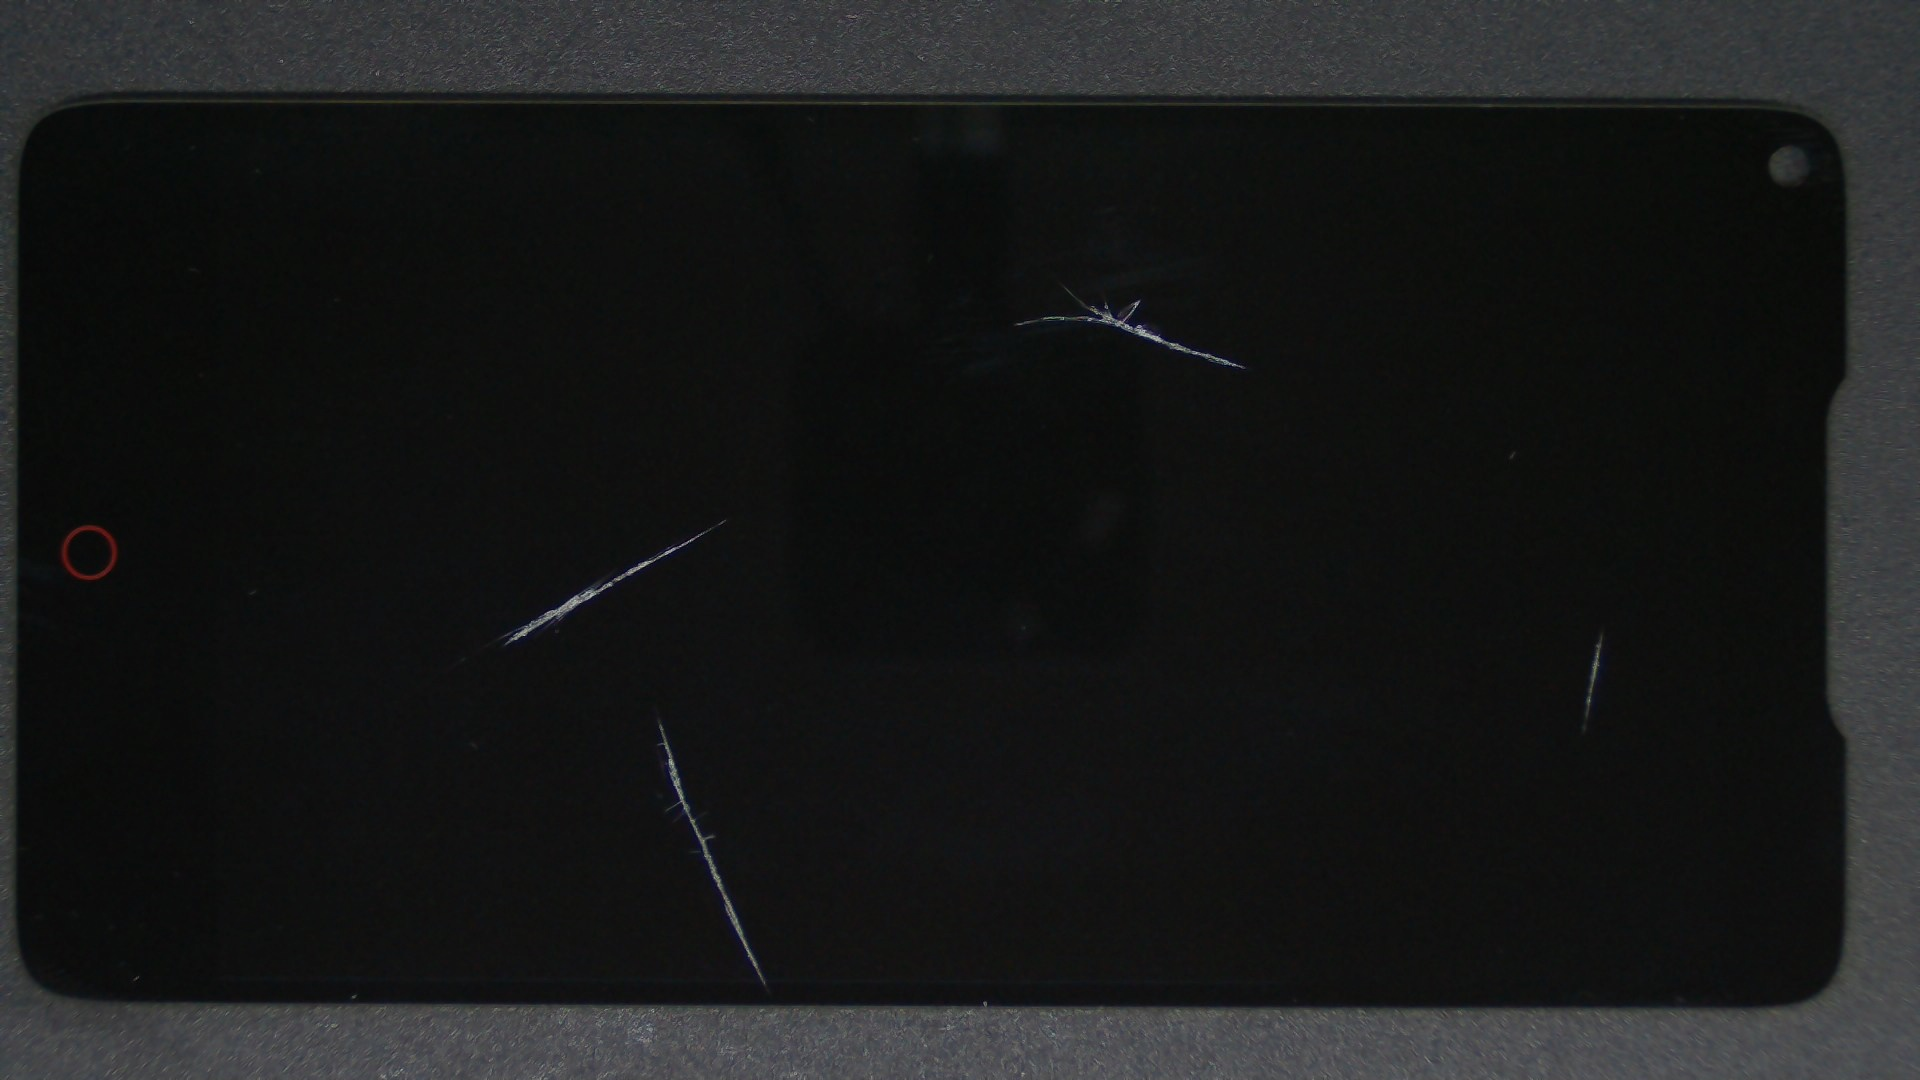oil: (800, 316, 1920, 949), (330, 360, 988, 1080), (363, 258, 1087, 778), (530, 142, 1594, 430)
